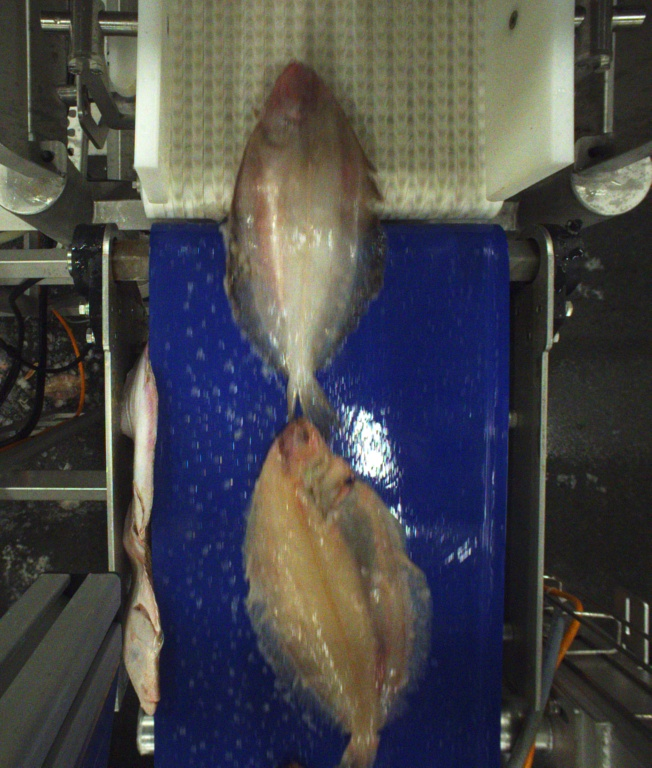WIT: (242, 417, 430, 768)
